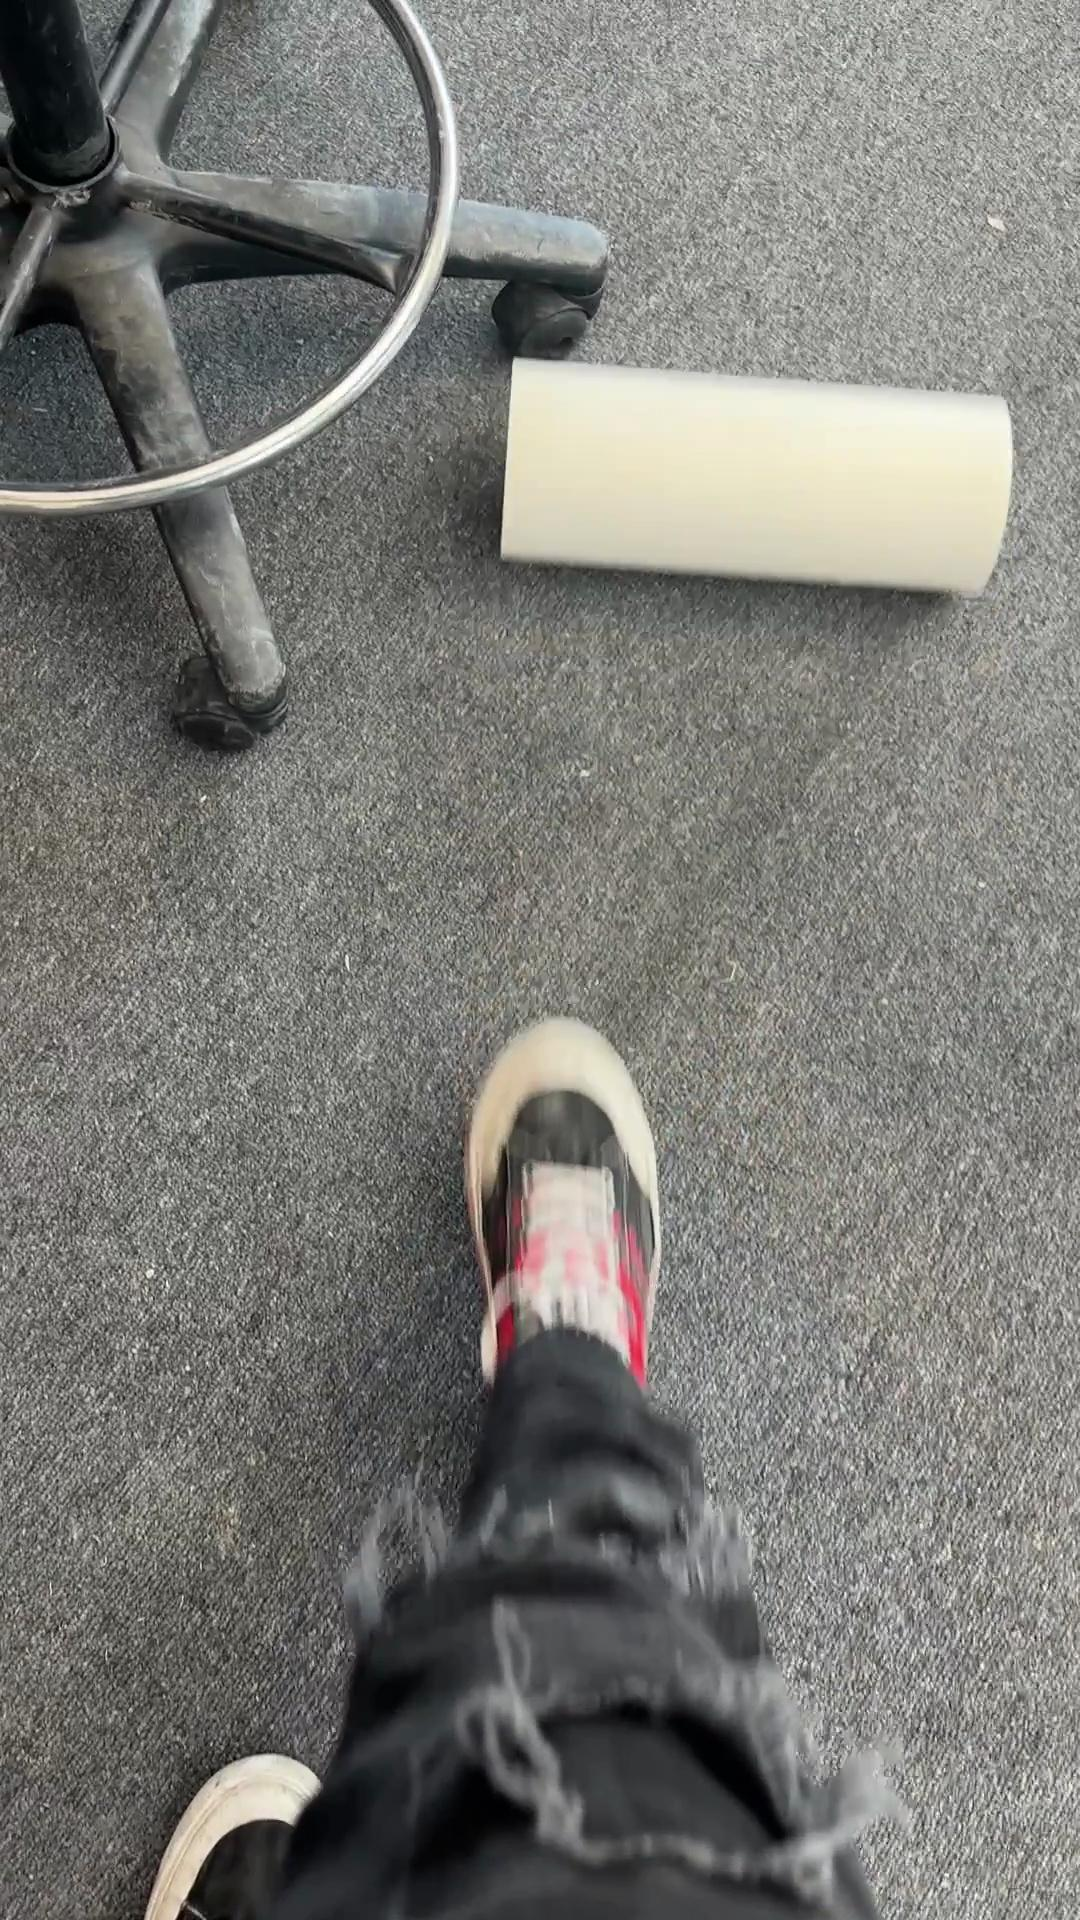CORAL: (496, 352, 1015, 599)
